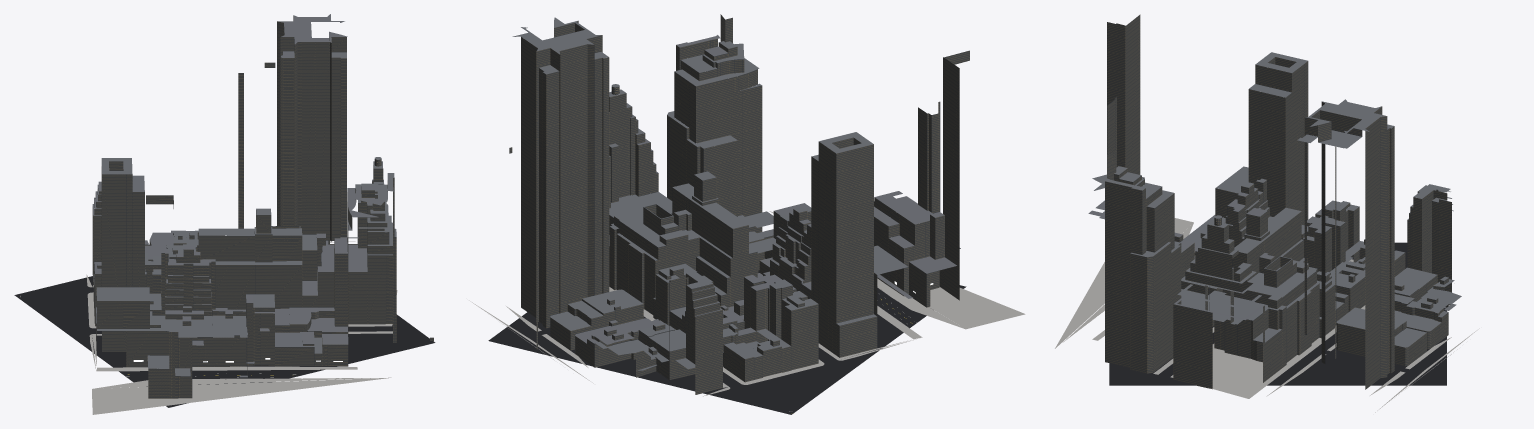
3 renders of one model, left to right at view 1: azimuth 30°, elevation 25°; view 2: azimuth 150°, elevation 25°; view 3: azimuth 270°, elevation 25°, orthographic. The views are drawn at different scales.
Parts seen in each view (by area): view 1: t2_5, detail; view 2: t2_5, detail; view 3: t2_5, detail.
Part boxes in pixels (x1=…): t2_5: x1=14, y1=14, x2=435, y2=407; detail: x1=20, y1=241, x2=397, y2=414; t2_5: x1=488, y1=14, x2=969, y2=414; detail: x1=469, y1=211, x2=1025, y2=411; t2_5: x1=1088, y1=14, x2=1461, y2=389; detail: x1=1055, y1=218, x2=1479, y2=412.
Size of the model in its own units: 362 by 215 by 344.
Materials: 5 (2 with a texture image).
